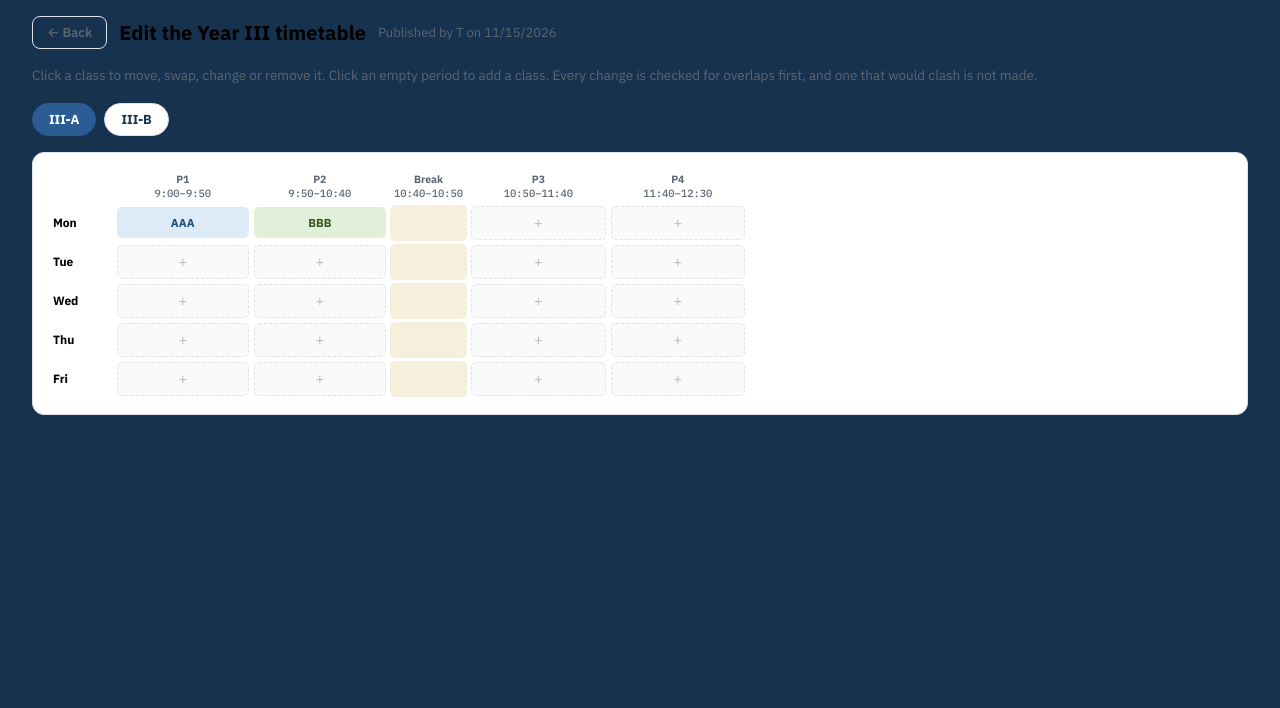
Test: the editor shows the timetable, refuses a clashing move and accepts a safe one
Check: the text "Edit the Year III timetable" is shown, box [119,19,366,46]
Click the button "AAA".
click(183, 223)  # box [117,207,249,238]
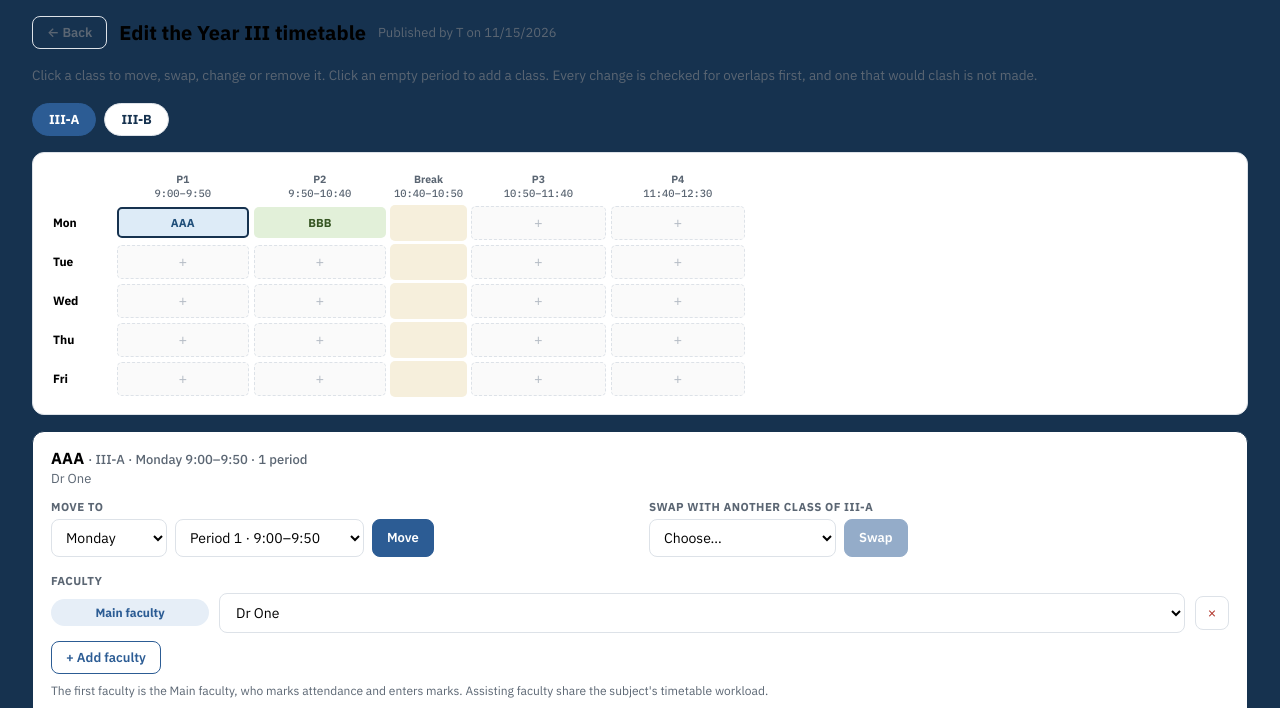
Check: the text "Move to" is shown, box [51,499,103,514]
Select "Tuesday" in the 1st dropdown at (109,538), box [51,519,167,557]
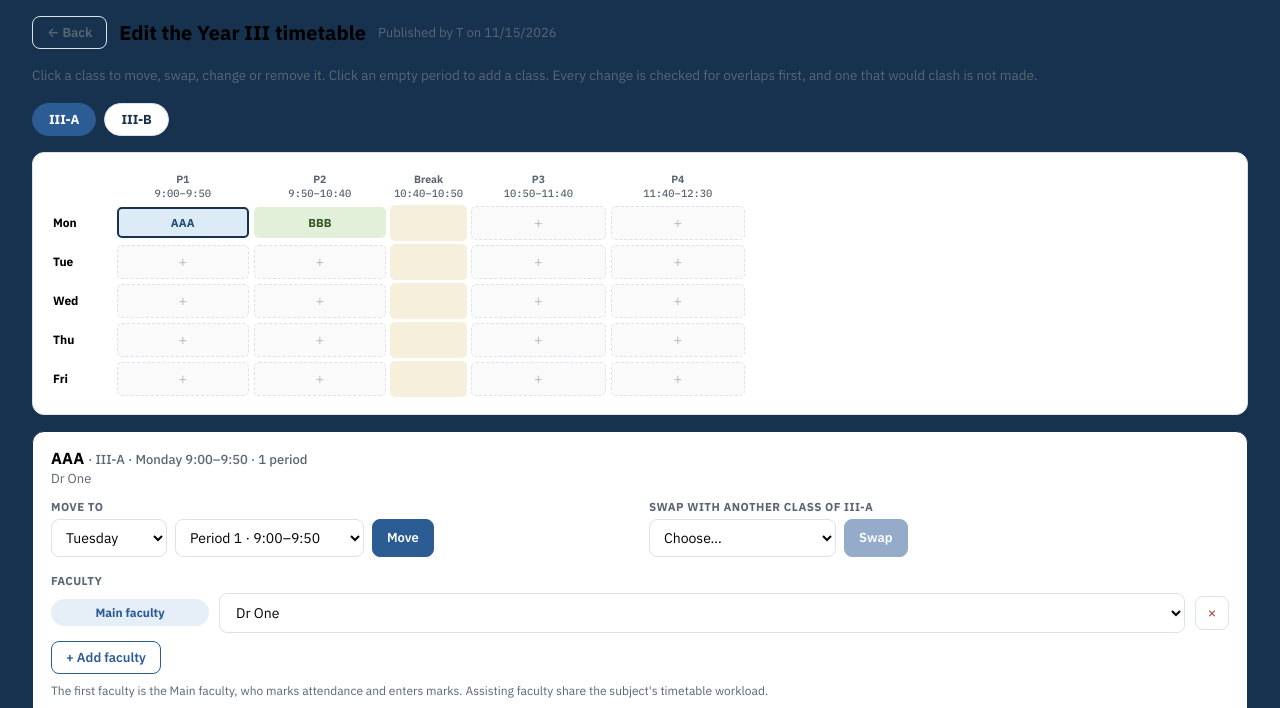
Click the button "Move".
click(403, 538)  # box [372,519,434,557]
(page scrolled)
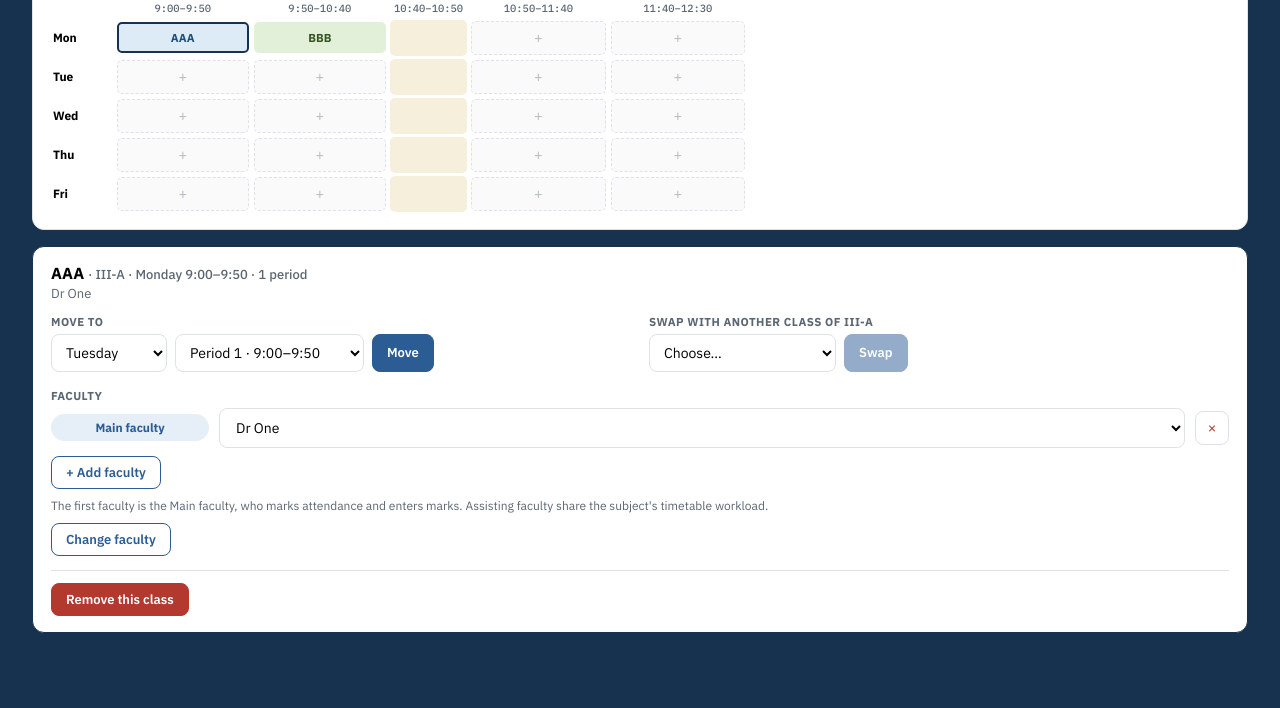
# a safe move: Tuesday period 4 (free for everyone)
Select "Period 3 · 10:50–11:40" in the 2nd dropdown at (270,353), box [175,334,364,372]
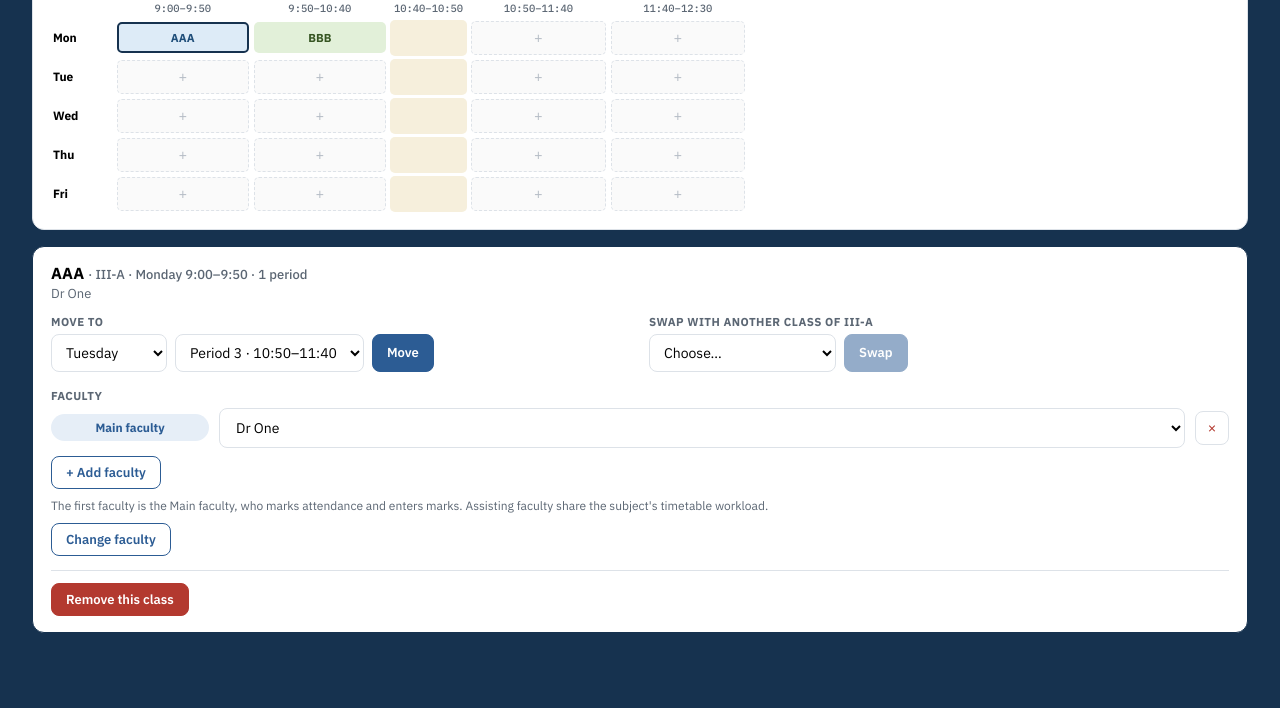
Click the button "Move".
click(403, 353)  # box [372,334,434,372]
(page scrolled)
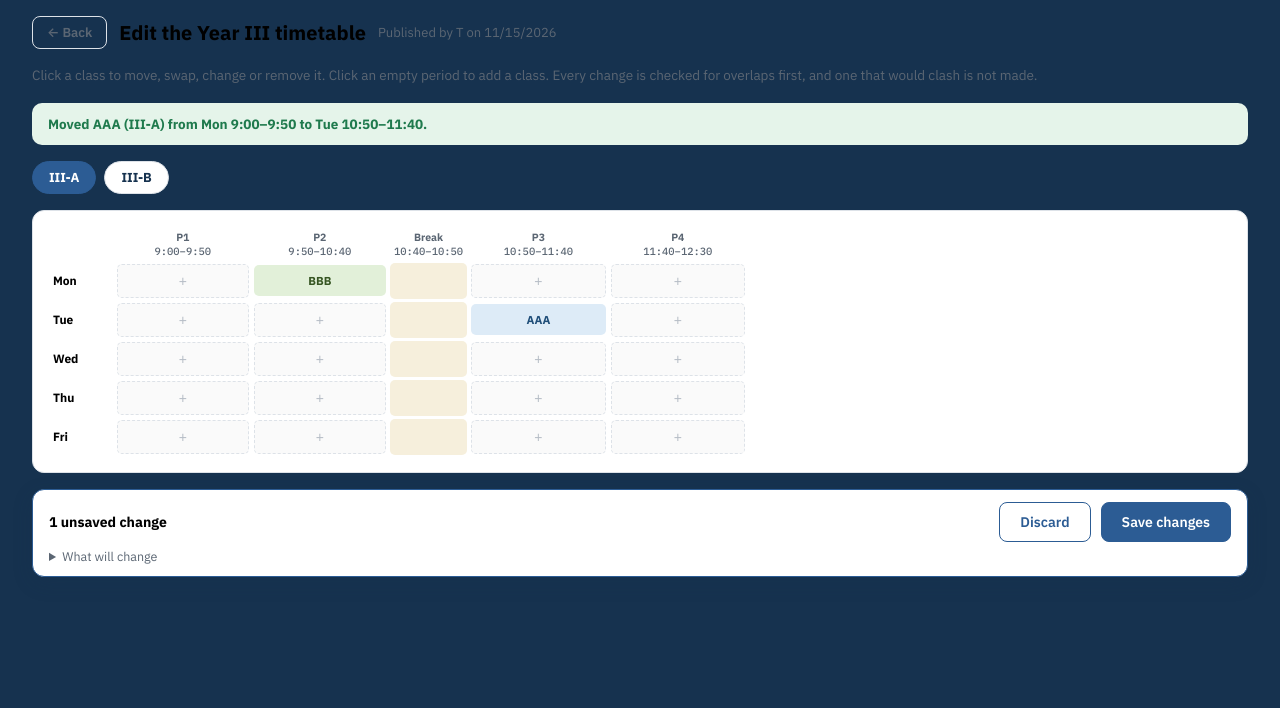
Check: the text "1 unsaved change" is shown, box [49,513,167,531]
Check: the button "Save changes" is shown, box [1101,502,1231,542]
